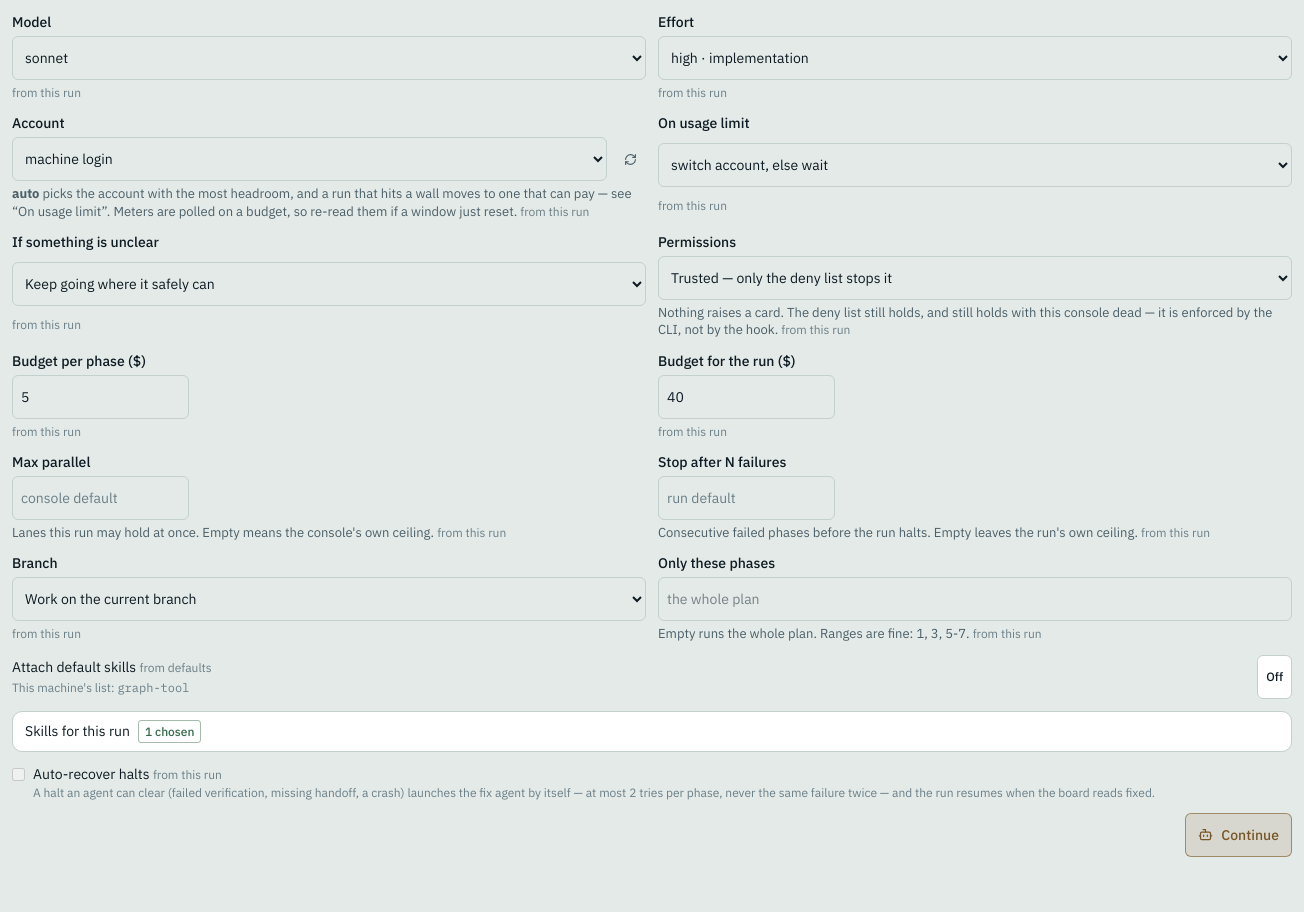
Test case: the field matrix › says where each value came from
The image size is (1304, 912).
Expected: the text "Branch" is shown, [12, 554, 58, 572]
Expected: the text "from this run" below "Model" is shown, [12, 85, 81, 100]
Replace the text in the number field labelled "Budget for the run ($)" with "99" at (746,397), box [658, 375, 835, 419]
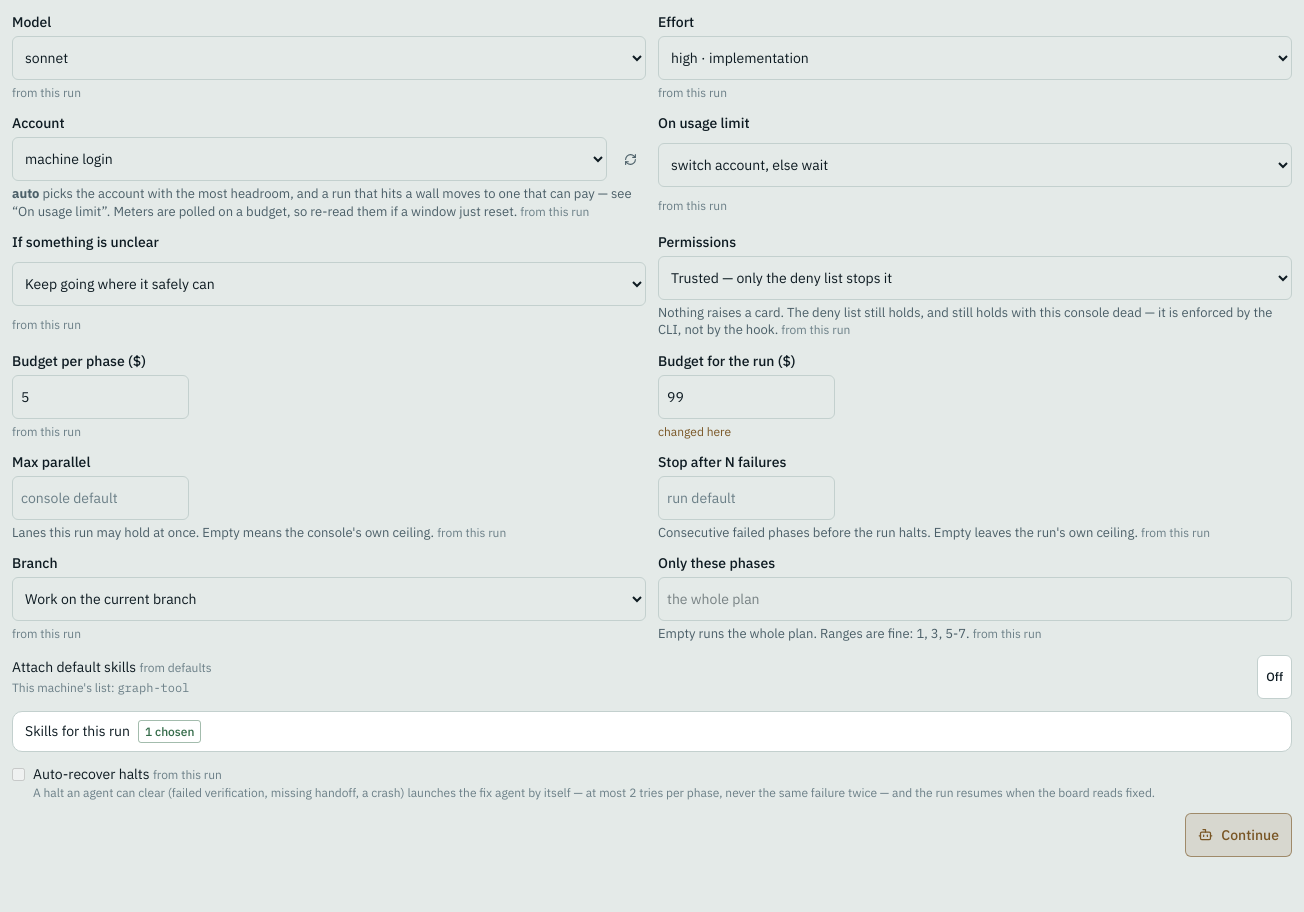
Expected: the text "changed here" is shown, [658, 424, 731, 439]
